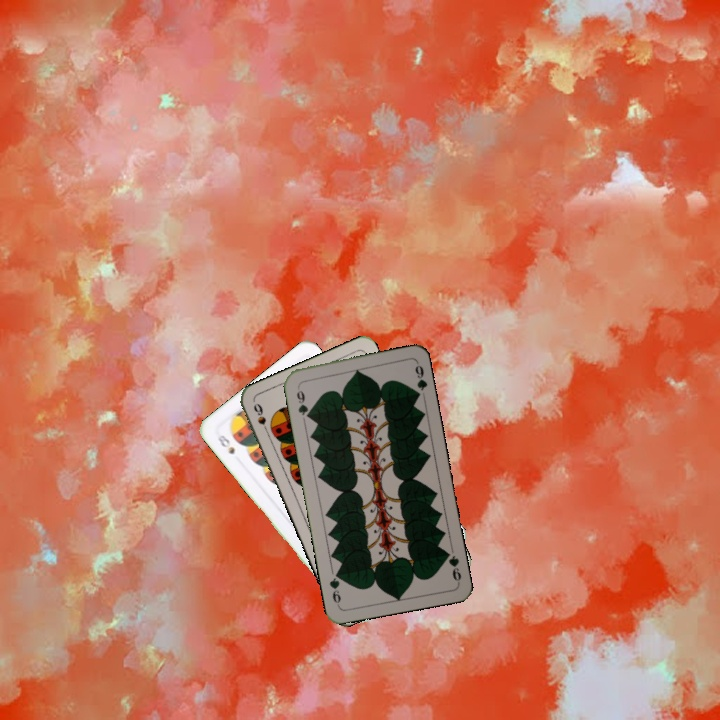G9: (440, 546, 464, 585), (293, 382, 313, 421)
S8: (213, 431, 237, 457)
S9: (249, 399, 272, 438)
